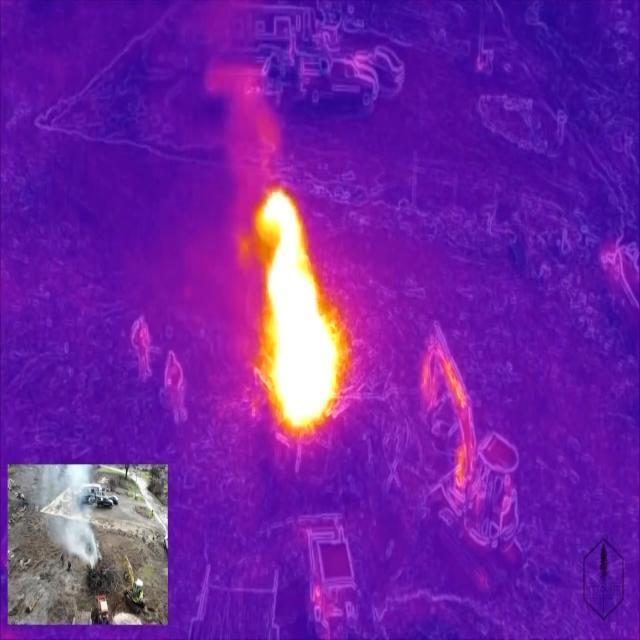fire: (256, 183, 350, 445)
